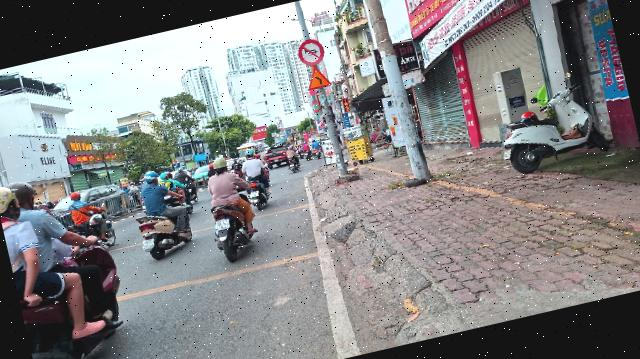cam-bop-coi: (295, 36, 327, 68)
cho-ngoat-nguy-hiem-ben-trai: (304, 64, 332, 91)
